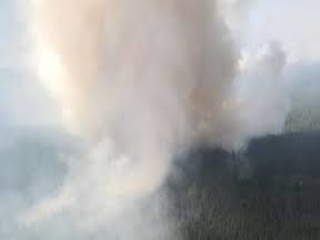smoke: (35, 7, 304, 170)
